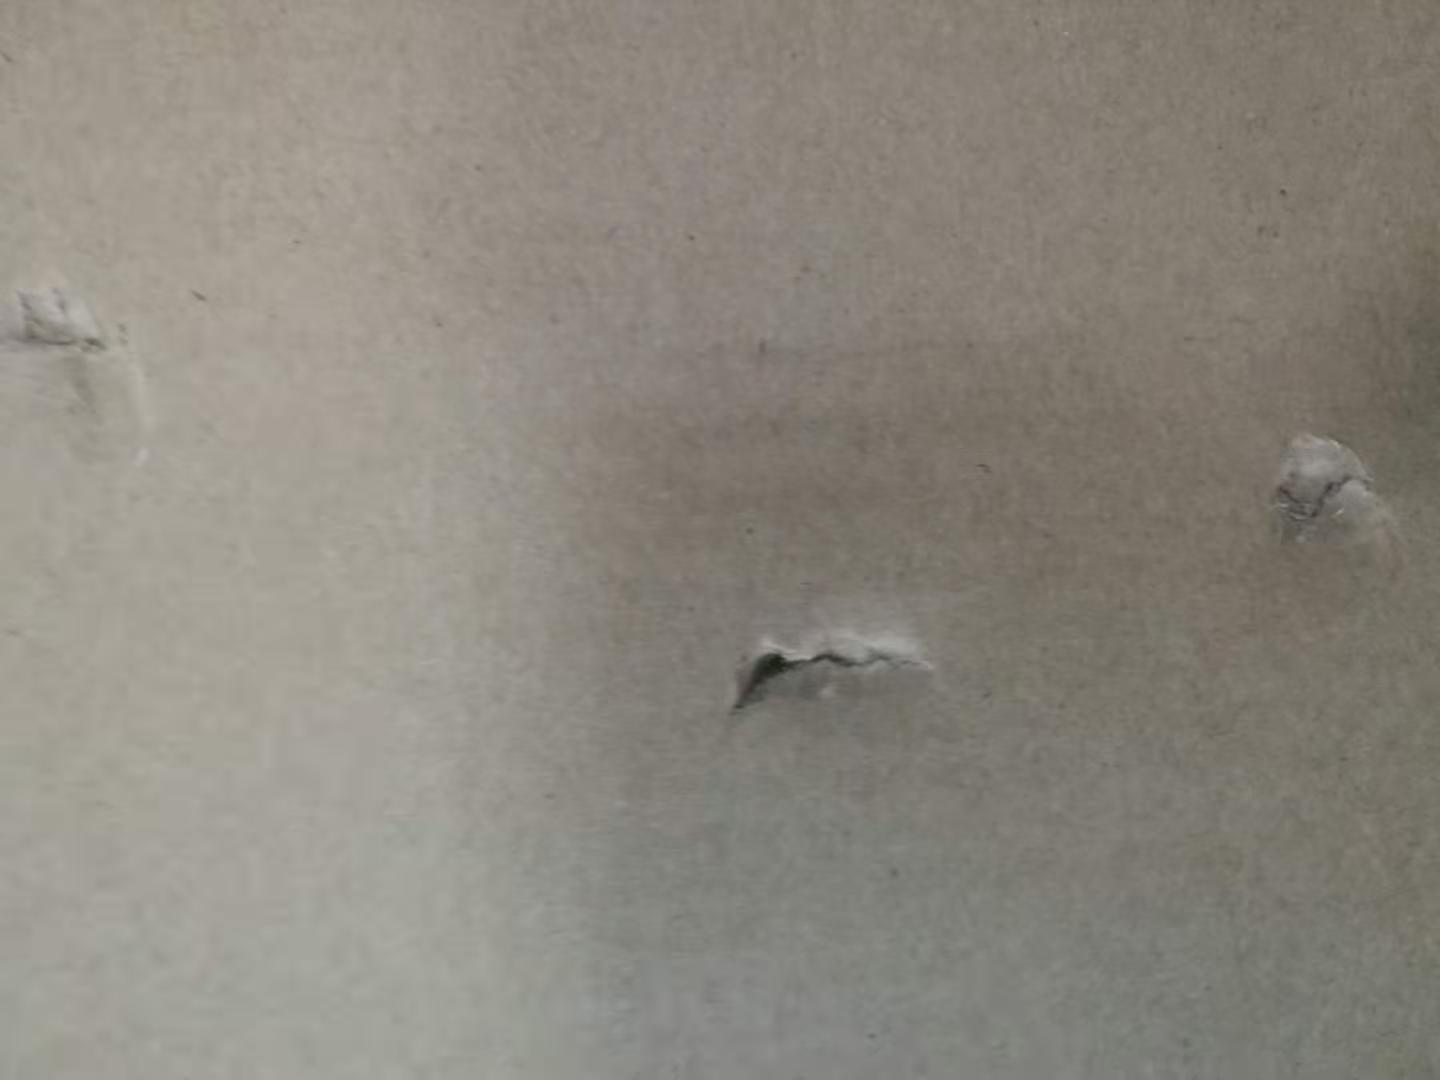defect: (709, 587, 966, 756), (2, 248, 175, 493), (1234, 398, 1417, 604)
